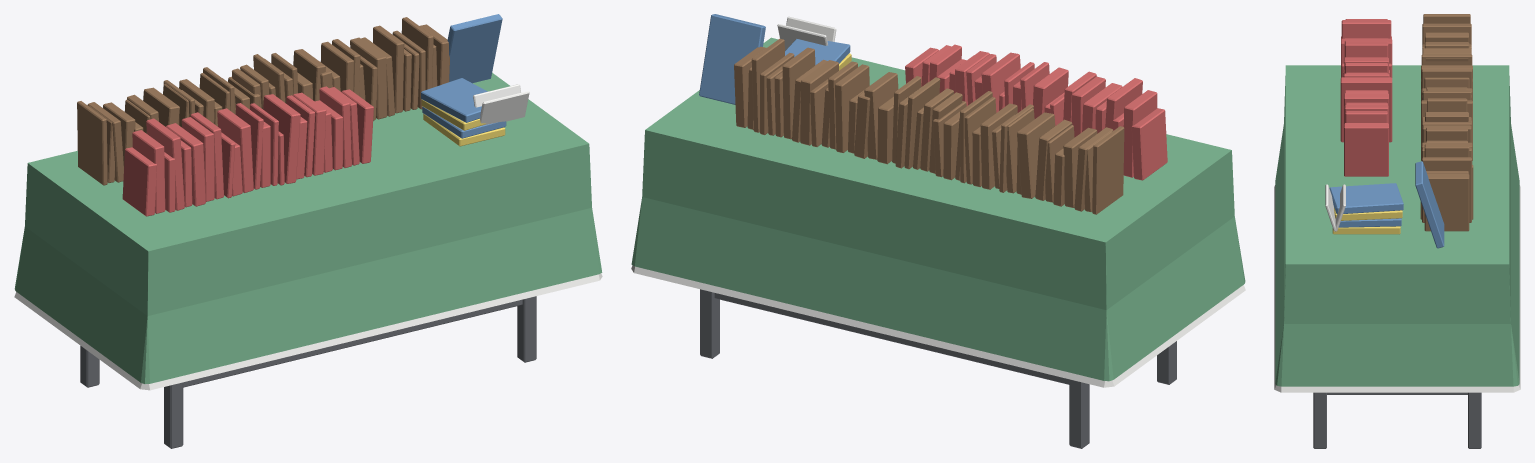
File: village-hall-and-community-events-book-stall-table-11610050.glb
3 views of the same model, side by side, from view 1: azimuth 30°, elevation 25°; view 2: azimuth 150°, elevation 25°; view 3: azimuth 270°, elevation 25° (orthographic). The views are drawn at different scales.
Parts seen in each view (by area): view 1: book-stall-table; view 2: book-stall-table; view 3: book-stall-table.
Part boxes in pixels (<box>): book-stall-table: <box>14,14,602,448</box>; book-stall-table: <box>631,14,1245,448</box>; book-stall-table: <box>1274,14,1520,448</box>.
Size of the model in its own units: 1.6 by 0.9842 by 0.7959.
